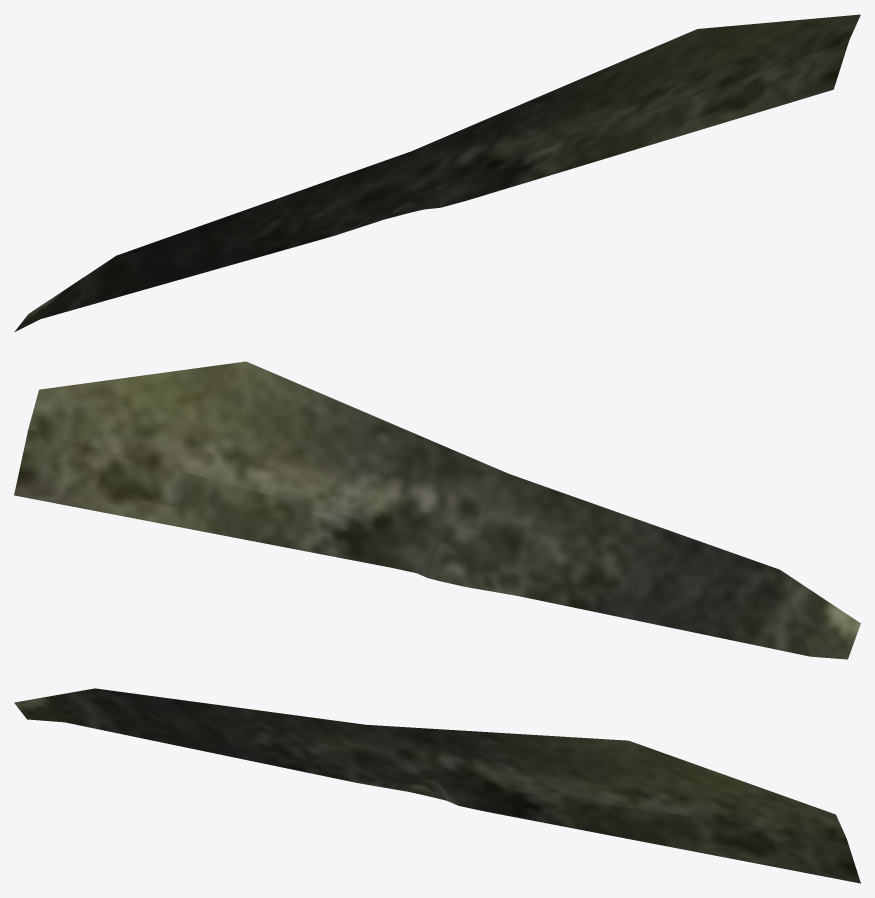
3 views of the same model, one above another, from view 1: azimuth 30°, elevation 25°; view 2: azimuth 150°, elevation 25°; view 3: azimuth 330°, elevation 25° (orthographic). The views are drawn at different scales.
Bounding box in the file's own units: 5.9 × 0.9835 × 0.6881.
Materials: 1 (1 with a texture image).
